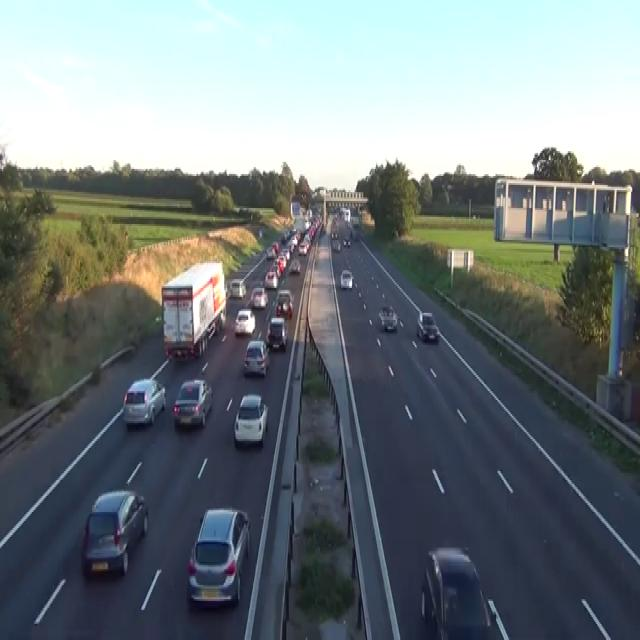Car: (420, 546, 492, 638), (186, 507, 250, 608), (81, 489, 148, 578), (122, 377, 166, 427), (172, 378, 212, 428), (233, 393, 268, 446), (243, 338, 269, 377), (485, 598, 510, 638), (265, 316, 287, 351), (416, 311, 439, 341), (234, 308, 255, 334), (275, 290, 294, 318), (378, 304, 397, 331), (249, 286, 268, 308), (229, 277, 246, 299), (340, 268, 353, 290), (264, 268, 278, 288), (275, 254, 286, 272), (288, 258, 300, 274), (280, 247, 290, 260), (266, 246, 274, 260), (351, 226, 359, 240), (342, 235, 351, 247), (225, 281, 231, 299), (298, 242, 307, 254), (331, 240, 340, 251), (350, 215, 359, 226), (272, 240, 279, 254), (331, 230, 338, 238), (258, 228, 262, 238)
Truck: (161, 259, 226, 361)
